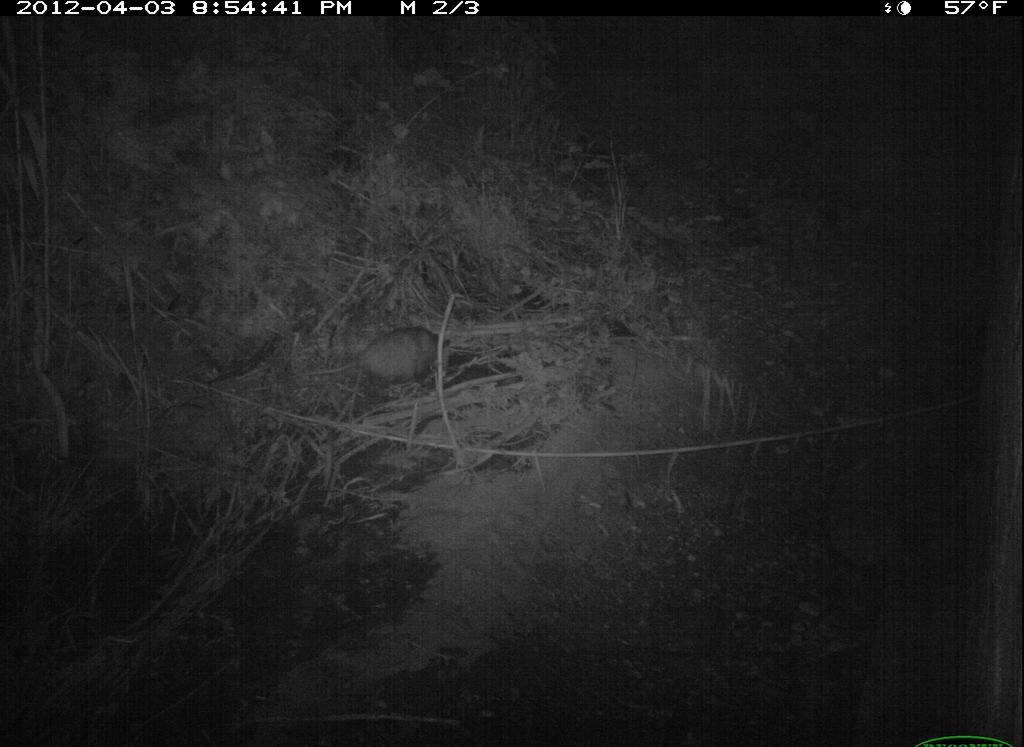opossum: (305, 321, 497, 396)
